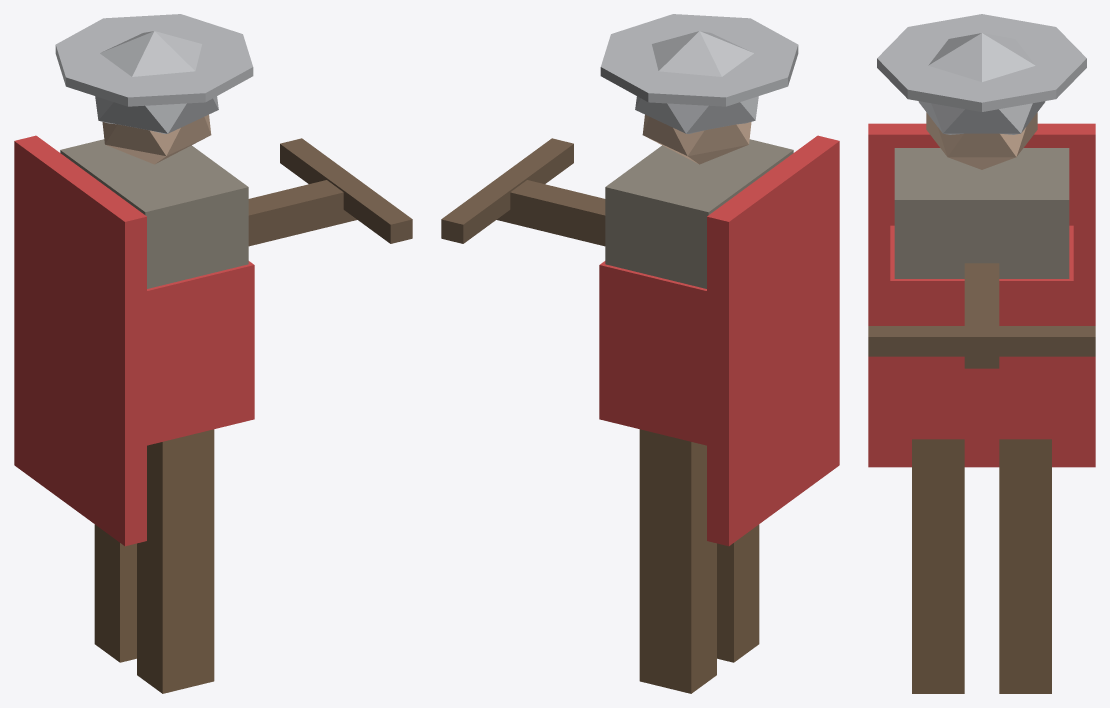
Rendered from army_archer.glb.
3 renders of one model, left to right at view 1: azimuth 30°, elevation 25°; view 2: azimuth 150°, elevation 25°; view 3: azimuth 270°, elevation 25°, orthographic. The views are drawn at different scales.
Visible parts, largest first — view 1: army_archer; view 2: army_archer; view 3: army_archer.
Part boxes in pixels (left/top/right/bottom): army_archer: left=14, top=14, right=412, bottom=693; army_archer: left=441, top=14, right=839, bottom=693; army_archer: left=868, top=14, right=1095, bottom=693.
Bounding box in the file's own units: 0.395 × 0.818 × 0.26.
